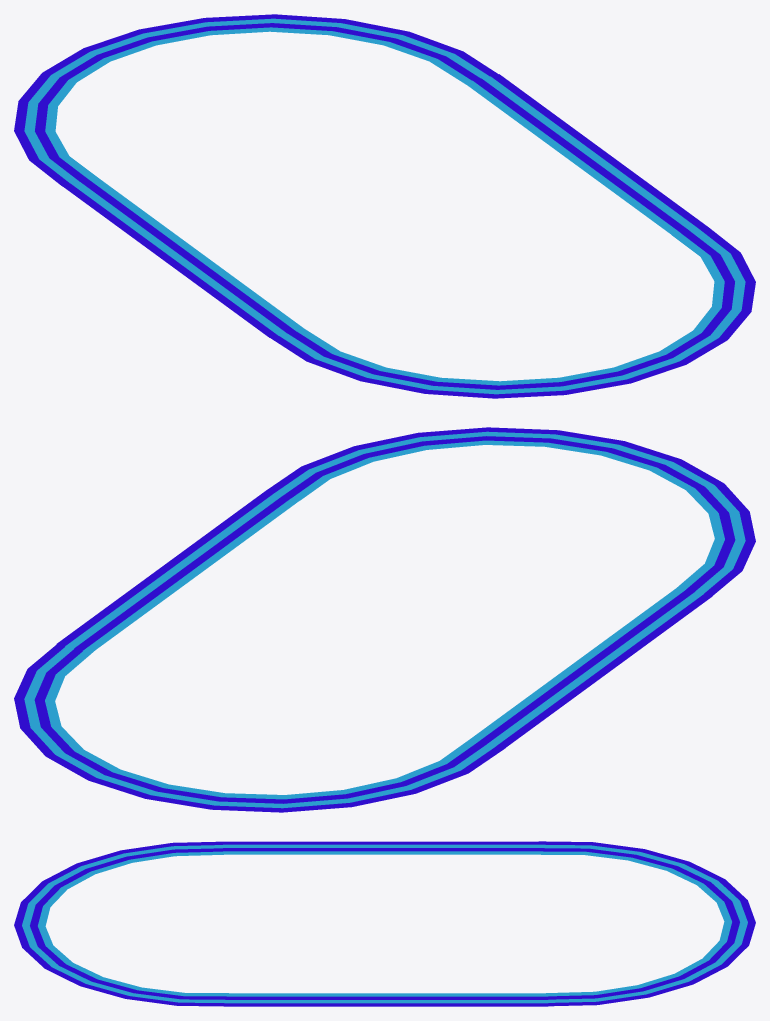
Rendered from pista2.fbx.
3 renders of one model, top to bottom at view 1: azimuth 30°, elevation 25°; view 2: azimuth 150°, elevation 25°; view 3: azimuth 270°, elevation 25°, orthographic. The views are drawn at different scales.
Parts seen in each view (by area): view 1: Plane.003; view 2: Plane.003; view 3: Plane.003.
Boxes of the visible parts, x1,y1,x2,y2 form: Plane.003: [14, 14, 755, 398]; Plane.003: [14, 427, 755, 812]; Plane.003: [14, 841, 755, 1006].
Bounding box in the file's own units: 6492 × 0.2136 × 12324.
